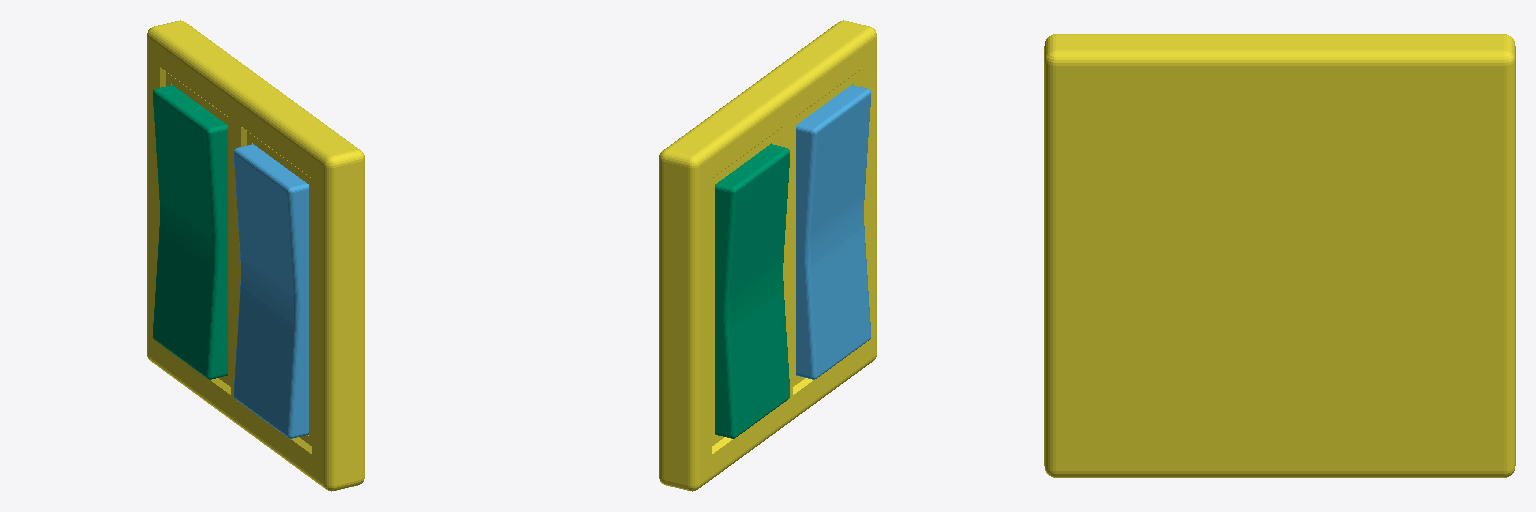
URDF robot description (partnet_u3cb90e37-54e9-40fb-97d8-2586632ee264):
<?xml version="1.0" ?>
<robot name="partnet_u3cb90e37-54e9-40fb-97d8-2586632ee264">
	<link name="base"/>
	<link name="link_0">
		<visual name="switch-1">
			<origin xyz="-0.5150739999999989 0.02268015992886683 -0.06844495494411659"/>
			<geometry>
				<mesh filename="textured_objs/original-10.obj"/>
			</geometry>
		</visual>
		<collision>
			<origin xyz="-0.5150739999999989 0.02268015992886683 -0.06844495494411659"/>
			<geometry>
				<mesh filename="textured_objs/original-10.obj"/>
			</geometry>
		</collision>
	</link>
	<joint name="joint_0" type="revolute">
		<origin xyz="0.5150739999999989 -0.02268015992886683 0.06844495494411659"/>
		<axis xyz="-1 0 0"/>
		<child link="link_0"/>
		<parent link="link_2"/>
		<limit lower="-0.06981317007977318" upper="0.06981317007977318"/>
	</joint>
	<link name="link_1">
		<visual name="switch-2">
			<origin xyz="-0.5150739999999989 0.02268015992886683 -0.06844495494411659"/>
			<geometry>
				<mesh filename="textured_objs/original-9.obj"/>
			</geometry>
		</visual>
		<collision>
			<origin xyz="-0.5150739999999989 0.02268015992886683 -0.06844495494411659"/>
			<geometry>
				<mesh filename="textured_objs/original-9.obj"/>
			</geometry>
		</collision>
	</link>
	<joint name="joint_1" type="fixed">
		<origin xyz="0.5150739999999989 -0.02268015992886683 0.06844495494411659"/>
		<axis xyz="-1 0 0"/>
		<child link="link_1"/>
		<parent link="link_2"/>
		<limit lower="-0.06981317007977318" upper="0.06981317007977318"/>
	</joint>
	<link name="link_2">
		<visual name="base_body-3">
			<origin xyz="0 0 0"/>
			<geometry>
				<mesh filename="textured_objs/original-4.obj"/>
			</geometry>
		</visual>
		<visual name="base_body-3">
			<origin xyz="0 0 0"/>
			<geometry>
				<mesh filename="textured_objs/original-3.obj"/>
			</geometry>
		</visual>
		<visual name="base_body-3">
			<origin xyz="0 0 0"/>
			<geometry>
				<mesh filename="textured_objs/original-2.obj"/>
			</geometry>
		</visual>
		<visual name="base_body-3">
			<origin xyz="0 0 0"/>
			<geometry>
				<mesh filename="textured_objs/original-5.obj"/>
			</geometry>
		</visual>
		<visual name="base_body-3">
			<origin xyz="0 0 0"/>
			<geometry>
				<mesh filename="textured_objs/original-6.obj"/>
			</geometry>
		</visual>
		<visual name="base_body-3">
			<origin xyz="0 0 0"/>
			<geometry>
				<mesh filename="textured_objs/original-7.obj"/>
			</geometry>
		</visual>
		<visual name="base_body-3">
			<origin xyz="0 0 0"/>
			<geometry>
				<mesh filename="textured_objs/original-1.obj"/>
			</geometry>
		</visual>
		<collision>
			<origin xyz="0 0 0"/>
			<geometry>
				<mesh filename="textured_objs/original-4.obj"/>
			</geometry>
		</collision>
		<collision>
			<origin xyz="0 0 0"/>
			<geometry>
				<mesh filename="textured_objs/original-3.obj"/>
			</geometry>
		</collision>
		<collision>
			<origin xyz="0 0 0"/>
			<geometry>
				<mesh filename="textured_objs/original-2.obj"/>
			</geometry>
		</collision>
		<collision>
			<origin xyz="0 0 0"/>
			<geometry>
				<mesh filename="textured_objs/original-5.obj"/>
			</geometry>
		</collision>
		<collision>
			<origin xyz="0 0 0"/>
			<geometry>
				<mesh filename="textured_objs/original-6.obj"/>
			</geometry>
		</collision>
		<collision>
			<origin xyz="0 0 0"/>
			<geometry>
				<mesh filename="textured_objs/original-7.obj"/>
			</geometry>
		</collision>
		<collision>
			<origin xyz="0 0 0"/>
			<geometry>
				<mesh filename="textured_objs/original-1.obj"/>
			</geometry>
		</collision>
	</link>
	<joint name="joint_2" type="fixed">
		<origin rpy="1.570796326794897 0 -1.570796326794897" xyz="0 0 0"/>
		<child link="link_2"/>
		<parent link="base"/>
	</joint>
</robot>

--- Render facts (derived) ---
3 views of the same robot in one strip: view 1: azimuth 30°, elevation 25°; view 2: azimuth 150°, elevation 25°; view 3: azimuth 270°, elevation 25° (orthographic).
Model partnet_u3cb90e37-54e9-40fb-97d8-2586632ee264 with 4 links and 3 joints (1 revolute, 2 fixed), rooted at base, posed every joint at zero.
Links seen in each view (by area): view 1: link_2, link_0, link_1; view 2: link_2, link_1, link_0; view 3: link_2.
Boxes of the visible links, x1,y1,x2,y2 form: link_2: (147, 20, 364, 491); link_0: (234, 144, 308, 438); link_1: (153, 85, 227, 379); link_2: (659, 20, 876, 491); link_1: (715, 144, 789, 438); link_0: (796, 85, 870, 379); link_2: (1044, 34, 1515, 477).
Size in the robot's own frame: 0.2462 by 1.41 by 1.41 metres.
9 mesh visuals loaded from 9 distinct referenced files (9 OBJ).
